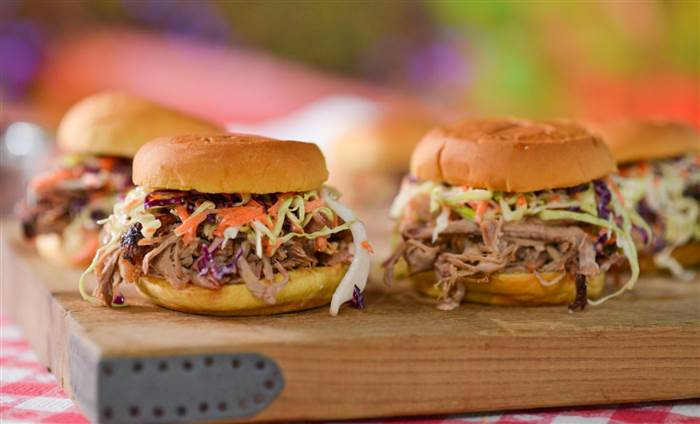sandwich: (369, 103, 653, 320), (112, 121, 377, 330)
